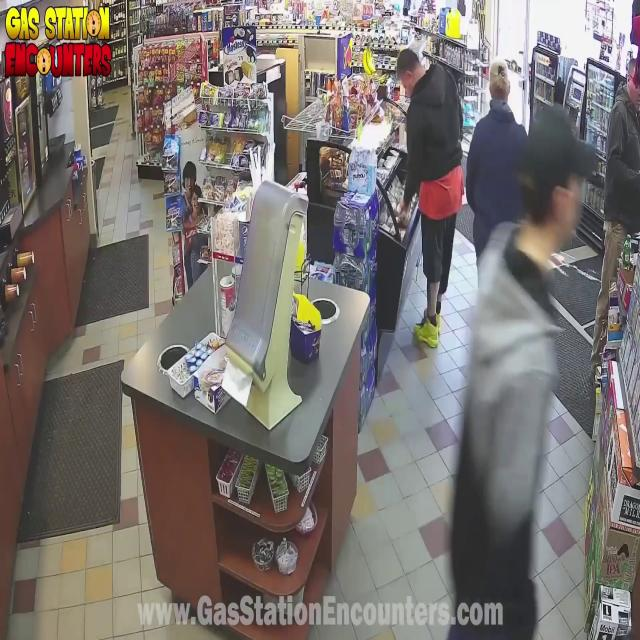Product: (396, 202, 412, 232)
normal: (448, 109, 620, 640), (591, 31, 640, 380), (478, 47, 516, 148)
shoplifting: (373, 28, 473, 371)
